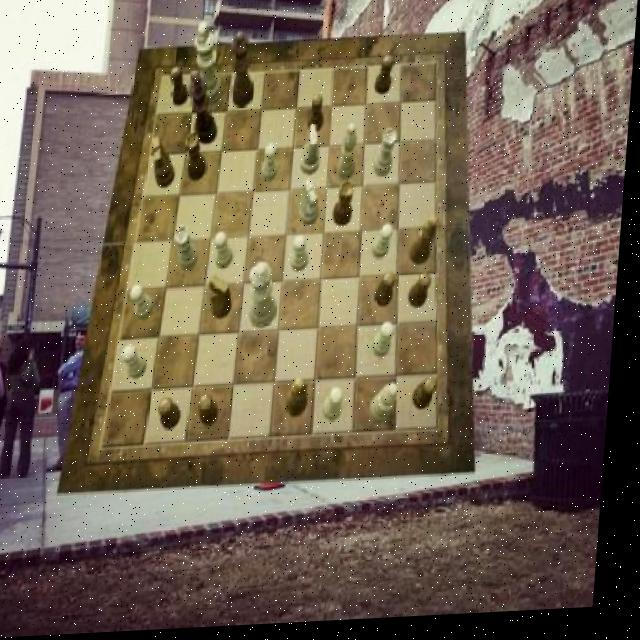bishop: (414, 220, 444, 270), (291, 380, 316, 421)
black-bishop: (186, 71, 224, 148)
black-king: (153, 139, 181, 192), (211, 277, 238, 322)
black-knight: (170, 69, 193, 110), (413, 277, 438, 314), (164, 399, 189, 433), (419, 382, 444, 416), (203, 396, 226, 431), (379, 275, 401, 311), (375, 59, 395, 98), (310, 97, 327, 136)
black-pawn: (230, 33, 260, 111)
black-queen: (186, 134, 212, 184), (337, 183, 359, 229)
black-rook: (339, 127, 360, 185), (376, 387, 405, 428)
white-bishop: (193, 21, 229, 108)
white-king: (303, 128, 325, 180), (303, 182, 326, 230)
white-knight: (127, 345, 155, 381), (133, 285, 160, 322), (376, 326, 400, 362), (218, 234, 240, 271), (294, 237, 314, 276), (376, 228, 398, 263), (330, 389, 351, 425), (264, 146, 282, 186)
white-pawn: (251, 265, 285, 332)
white-queen: (177, 226, 205, 273), (375, 133, 400, 183)
